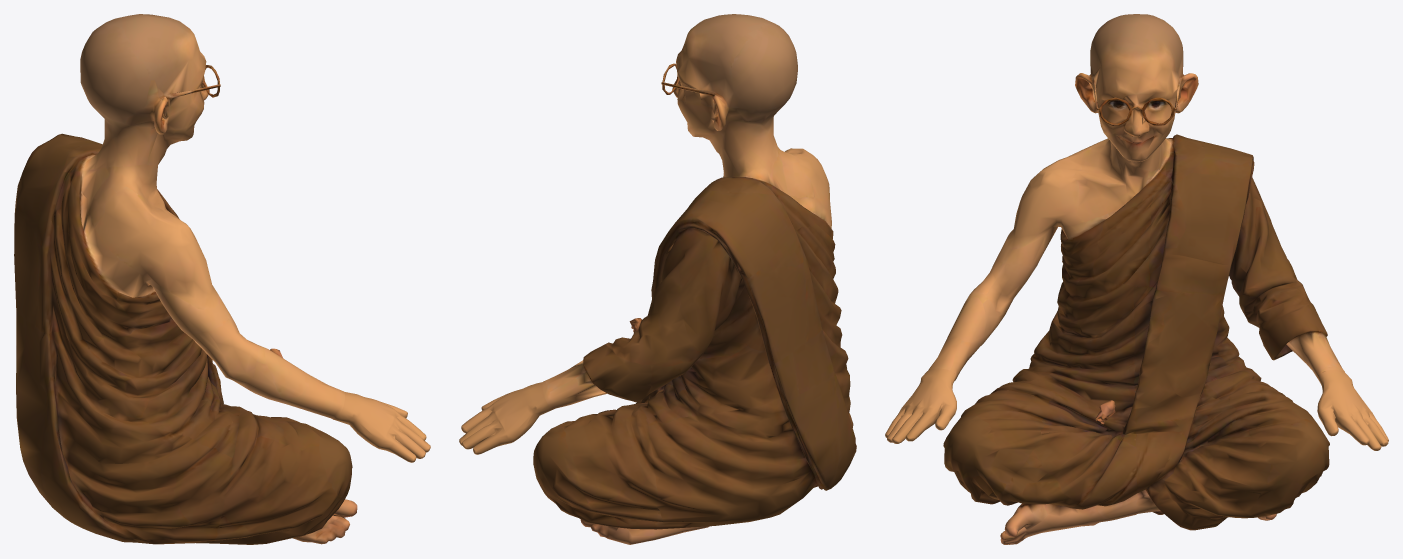
The model's file is monk-junior.glb.
3 views of the same model, side by side, from view 1: azimuth 30°, elevation 25°; view 2: azimuth 150°, elevation 25°; view 3: azimuth 270°, elevation 25° (orthographic). The views are drawn at different scales.
Parts seen in each view (by area): view 1: tripo_node_abf251d7-d509-4420-8547-523511738ba9; view 2: tripo_node_abf251d7-d509-4420-8547-523511738ba9; view 3: tripo_node_abf251d7-d509-4420-8547-523511738ba9.
Boxes of the visible parts, bbox=[...] form: tripo_node_abf251d7-d509-4420-8547-523511738ba9: bbox=[14, 14, 430, 544]; tripo_node_abf251d7-d509-4420-8547-523511738ba9: bbox=[459, 14, 856, 544]; tripo_node_abf251d7-d509-4420-8547-523511738ba9: bbox=[885, 14, 1388, 544].
Size of the model in its own units: 0.5501 by 0.9995 by 0.9679.
Materials: 1 (1 with a texture image).
